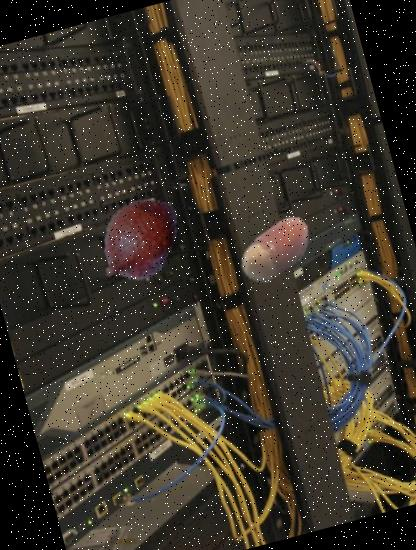Hazelnut: (226, 200, 328, 302)
Salak: (81, 182, 197, 298)
